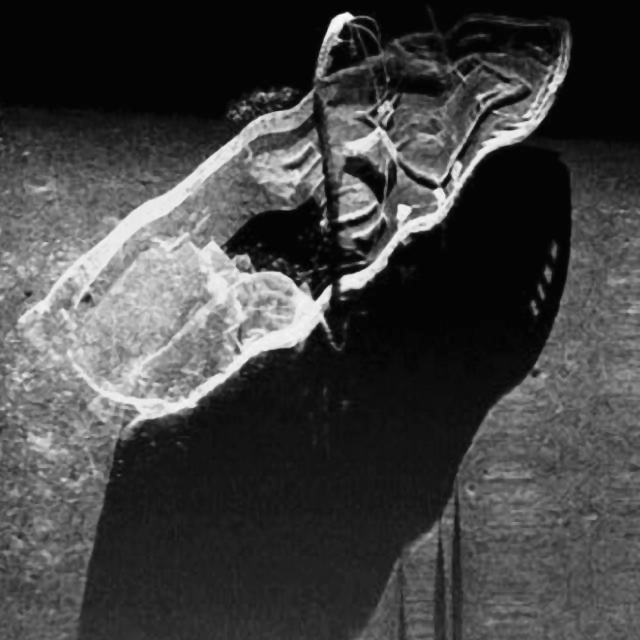Ship: (14, 1, 585, 460)
